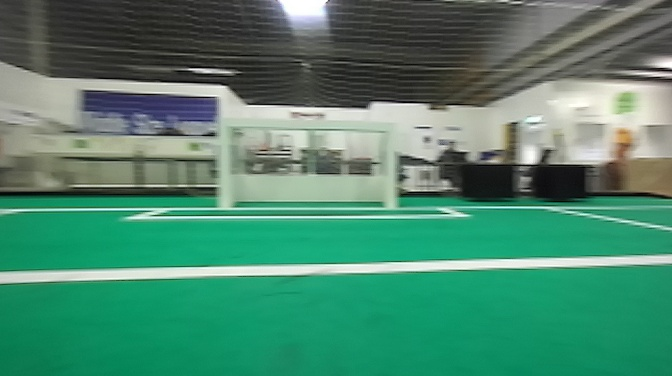goalpost: (212, 114, 233, 210), (380, 118, 398, 211)
